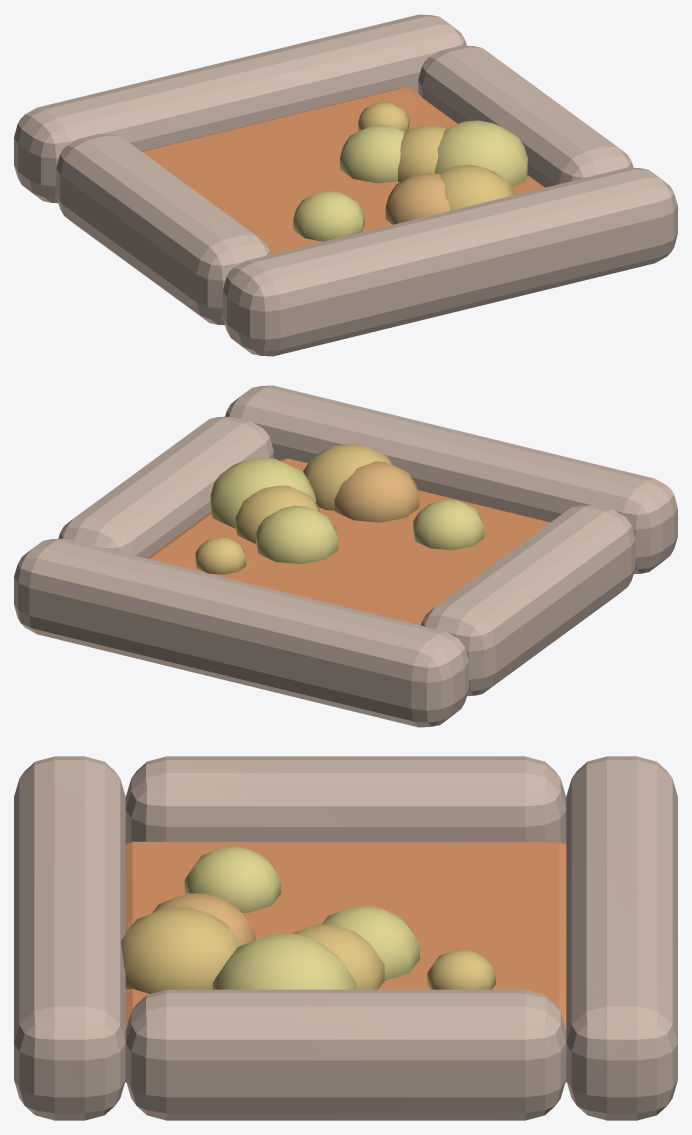
File: gym_lava_lite.glb
3 renders of one model, top to bottom at view 1: azimuth 30°, elevation 25°; view 2: azimuth 150°, elevation 25°; view 3: azimuth 270°, elevation 25°, orthographic. The views are drawn at different scales.
Parts seen in each view (by area): view 1: Cube; view 2: Cube; view 3: Cube.
Boxes of the visible parts, bbox=[...] form: Cube: bbox=[14, 14, 677, 356]; Cube: bbox=[14, 385, 677, 727]; Cube: bbox=[14, 756, 677, 1120].
Size of the model in its own units: 1.96 by 0.3947 by 1.96.
